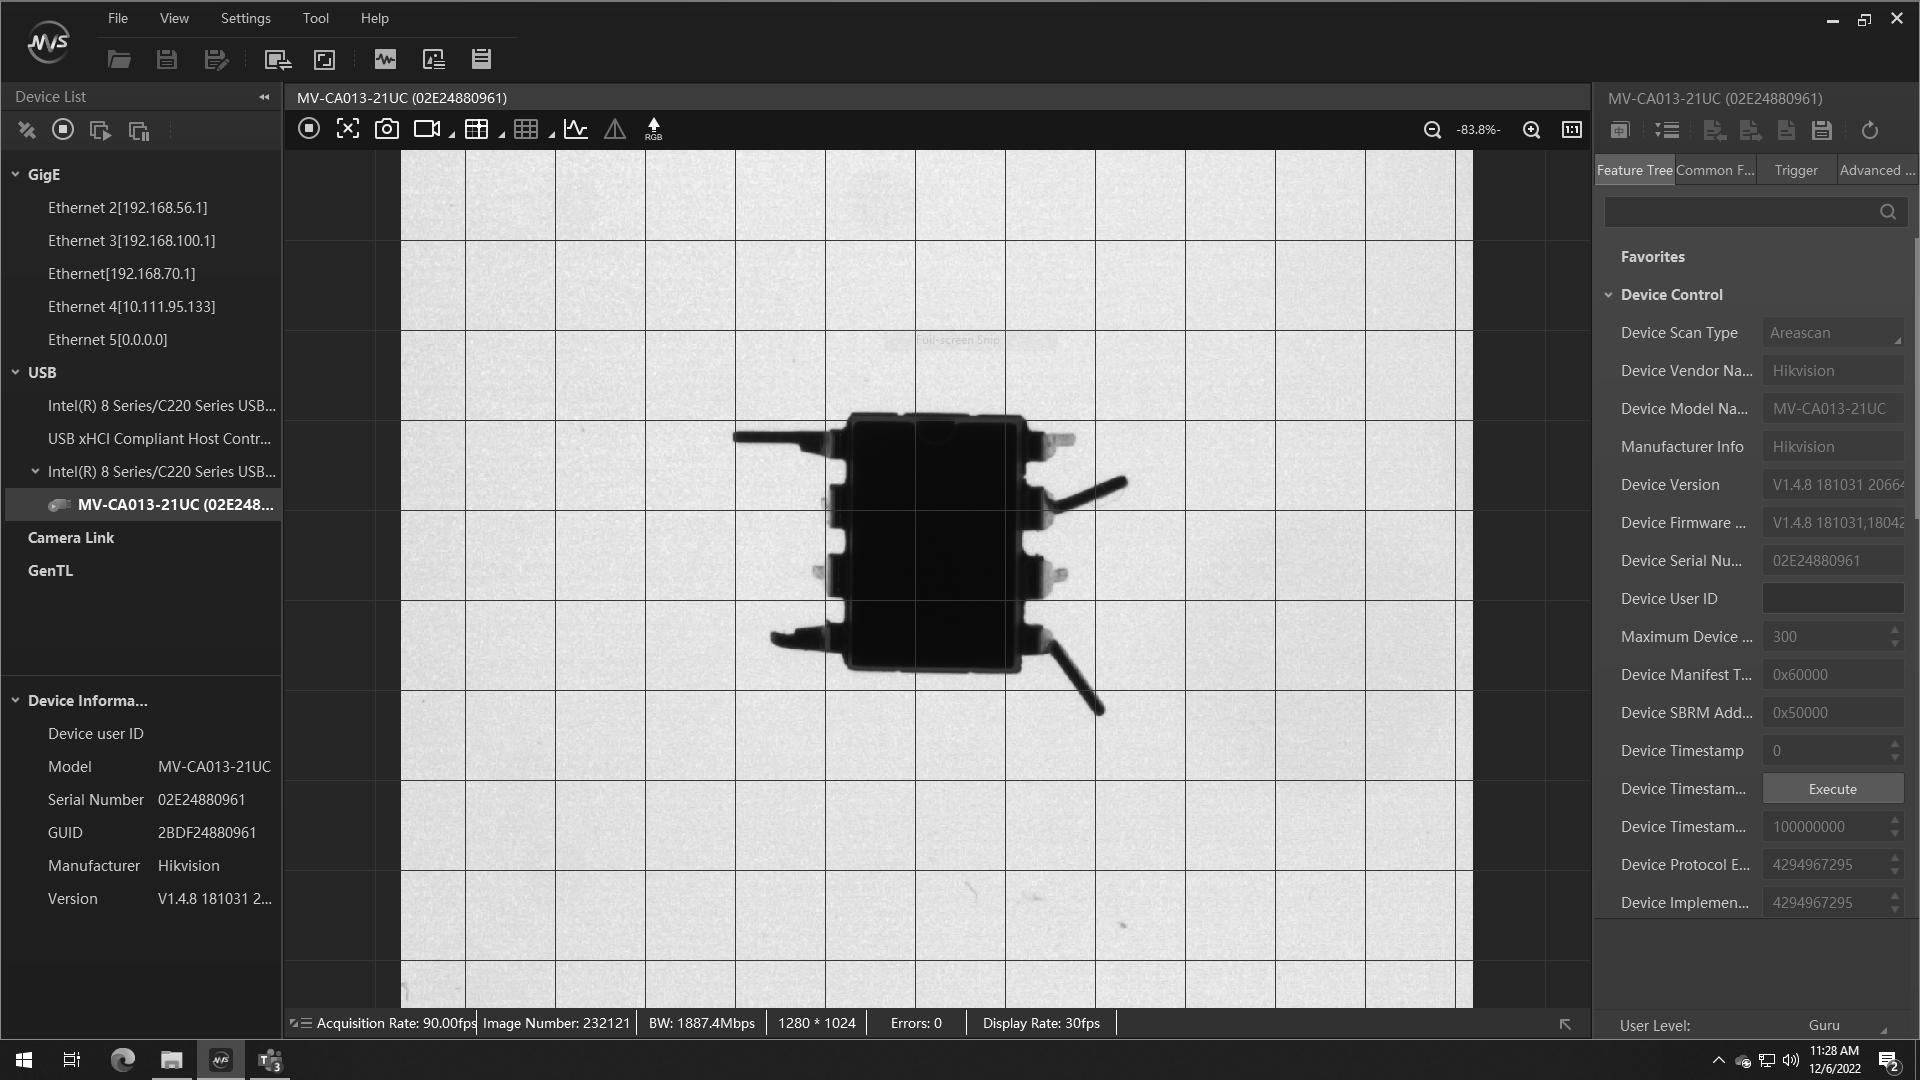Leg: (1022, 618, 1108, 719), (1019, 476, 1133, 537), (730, 428, 849, 460), (1021, 547, 1070, 601), (768, 624, 846, 653), (1028, 428, 1078, 464), (813, 553, 848, 598), (821, 481, 850, 530)
